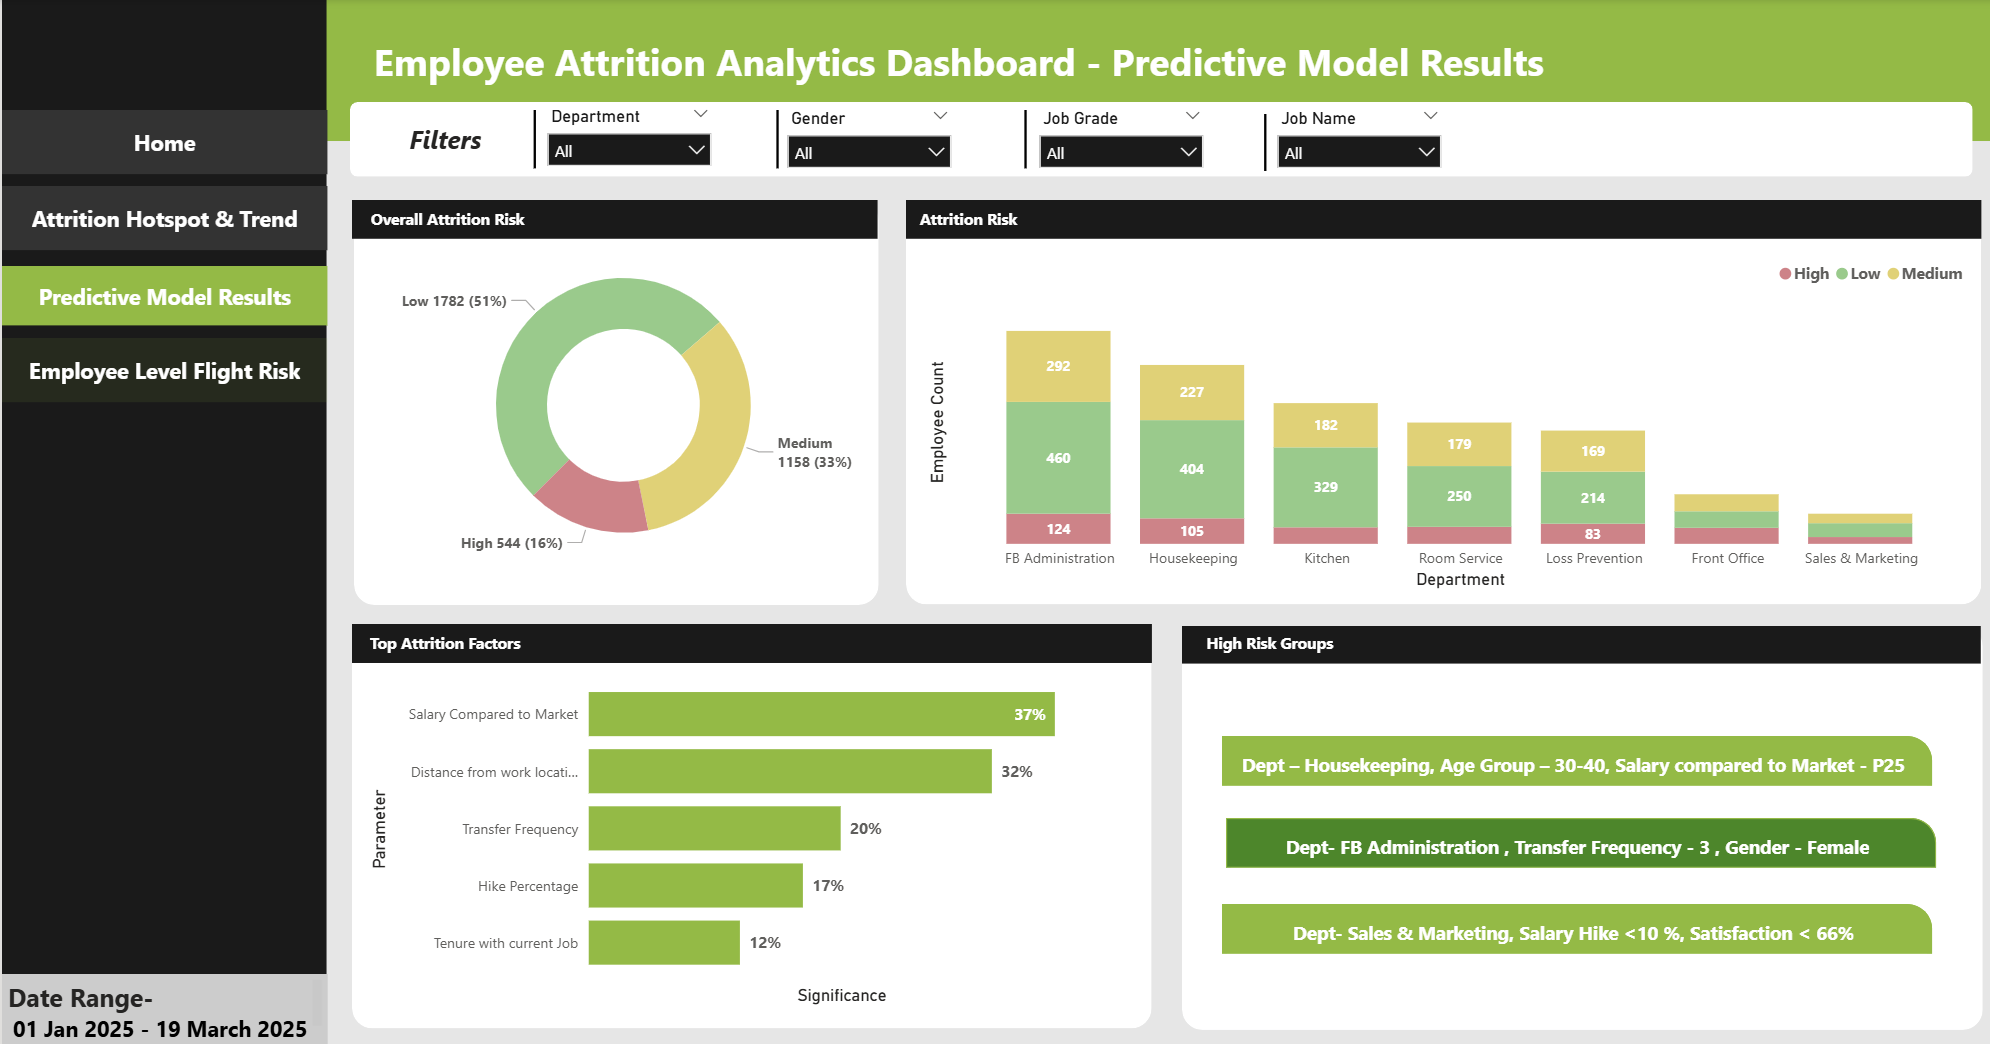

Layout of this report page (visuals, bound fields, positions):
{"tool":"powerbi","page":{"name":"Predictive Model Results","canvas":[1720,900],"ordinal":2},"visuals":[{"type":"shape","box":[0,0,1720,122.5],"z":0},{"type":"shape","box":[299.6,536,685,346.4],"z":1000},{"type":"shape","box":[300,537,685.2,33.3],"z":2000},{"type":"shape","box":[774.4,173.2,921.1,346.4],"z":3000},{"type":"shape","box":[774.4,173.2,921.1,33],"z":4000},{"type":"shape","box":[0,0,278,900],"z":5000},{"type":"shape","box":[298.6,89.9,1390,64],"z":7000},{"type":"textbox","box":[328.3,100.4,101.9,48.9],"z":8000},{"type":"shape","box":[301.6,173,449.5,346.9],"z":9000},{"type":"shape","box":[300.6,173.2,450,33],"z":10000},{"type":"textbox","box":[309.4,537.8,220.1,37.4],"z":11000},{"type":"textbox","box":[743.4,174.4,172.3,37.4],"z":12000},{"type":"textbox","box":[280.3,174.4,201.4,35.3],"z":13000},{"type":"clusteredBarChart","fields":{"Category":["Attrition_Factor.Parameter"],"Y":["Sum(Attrition_Factor.Significance_1)"]},"box":[309.3,561.1,631.5,305.6],"z":14000},{"type":"donutChart","fields":{"Category":["Flight Risk Table.Attrition Risk"],"Y":["CountNonNull(Flight Risk Table.Attrition Risk)"]},"box":[313.3,195.3,437.5,307.2],"z":15000},{"type":"columnChart","fields":{"Category":["Flight Risk Table.Department"],"Y":["CountNonNull(Flight Risk Table.Attrition Risk)"],"Series":["Flight Risk Table.Attrition Risk"]},"box":[787.4,215.7,901.4,295],"z":16000},{"type":"textbox","box":[0,836.3,278.8,63.1],"z":17000},{"type":"actionButton","box":[0,229.9,278.8,50.9],"z":18000},{"type":"actionButton","box":[0,95.6,278.8,54.9],"z":19000},{"type":"actionButton","box":[0,291,278.8,54.9],"z":20000},{"type":"shape","box":[1010,538,686,346],"z":21000},{"type":"shape","box":[1010,538,684,32],"z":22000},{"type":"shape","box":[1045.8,632.8,608.4,42.7],"z":23000},{"type":"shape","box":[1047.9,702,608.4,42.7],"z":24000},{"type":"shape","box":[1045.8,775.2,608.4,42.7],"z":25000},{"type":"textbox","box":[1009.2,537.8,153.7,37.4],"z":26000},{"type":"shape","box":[429.2,95.4,52.7,50],"z":27000},{"type":"slicer","fields":{"Values":["Termination Report.Job Name"]},"box":[1083.5,89.8,160.1,58.6],"z":28000},{"type":"slicer","fields":{"Values":["Termination Report.Sex"]},"box":[663,89.9,160,58],"z":29000},{"type":"slicer","fields":{"Values":["Termination Report.Department Name"]},"box":[456.8,87.9,160.1,58.6],"z":31000},{"type":"shape","box":[625.2,96.2,78,50],"z":32000},{"type":"shape","box":[837.2,96.2,78,50],"z":33000},{"type":"shape","box":[1038.6,99.6,87.9,48.8],"z":35000},{"type":"textbox","box":[313,27.8,1020.4,59.3],"z":36000},{"type":"slicer","fields":{"Values":["Termination Report.Job Grade"]},"box":[878.5,89.8,160.1,58.6],"z":39000},{"type":"actionButton","box":[0,160.7,278.8,54.9],"z":41000}]}

Visuals, with their boxes on the page's 1720x900 design canvas (x1, y1, x2, y2). These are canvas units, not pixel positions in the 1990x1044 screenshot, which may show the page scaled, cropped or inside an application window:
shape: crop(0, 0, 1720, 122)
shape: crop(300, 536, 985, 882)
shape: crop(300, 537, 985, 570)
shape: crop(774, 173, 1696, 520)
shape: crop(774, 173, 1696, 206)
shape: crop(0, 0, 278, 900)
shape: crop(299, 90, 1689, 154)
textbox: crop(328, 100, 430, 149)
shape: crop(302, 173, 751, 520)
shape: crop(301, 173, 751, 206)
textbox: crop(309, 538, 530, 575)
textbox: crop(743, 174, 916, 212)
textbox: crop(280, 174, 482, 210)
clusteredBarChart - Attrition_Factor.Parameter x Sum(Attrition_Factor.Significance_1): crop(309, 561, 941, 867)
donutChart - Flight Risk Table.Attrition Risk x CountNonNull(Flight Risk Table.Attrition Risk): crop(313, 195, 751, 502)
columnChart - Flight Risk Table.Department x CountNonNull(Flight Risk Table.Attrition Risk): crop(787, 216, 1689, 511)
textbox: crop(0, 836, 279, 899)
actionButton: crop(0, 230, 279, 281)
actionButton: crop(0, 96, 279, 150)
actionButton: crop(0, 291, 279, 346)
shape: crop(1010, 538, 1696, 884)
shape: crop(1010, 538, 1694, 570)
shape: crop(1046, 633, 1654, 676)
shape: crop(1048, 702, 1656, 745)
shape: crop(1046, 775, 1654, 818)
textbox: crop(1009, 538, 1163, 575)
shape: crop(429, 95, 482, 145)
slicer - Termination Report.Job Name: crop(1084, 90, 1244, 148)
slicer - Termination Report.Sex: crop(663, 90, 823, 148)
slicer - Termination Report.Department Name: crop(457, 88, 617, 146)
shape: crop(625, 96, 703, 146)
shape: crop(837, 96, 915, 146)
shape: crop(1039, 100, 1126, 148)
textbox: crop(313, 28, 1333, 87)
slicer - Termination Report.Job Grade: crop(878, 90, 1039, 148)
actionButton: crop(0, 161, 279, 216)
